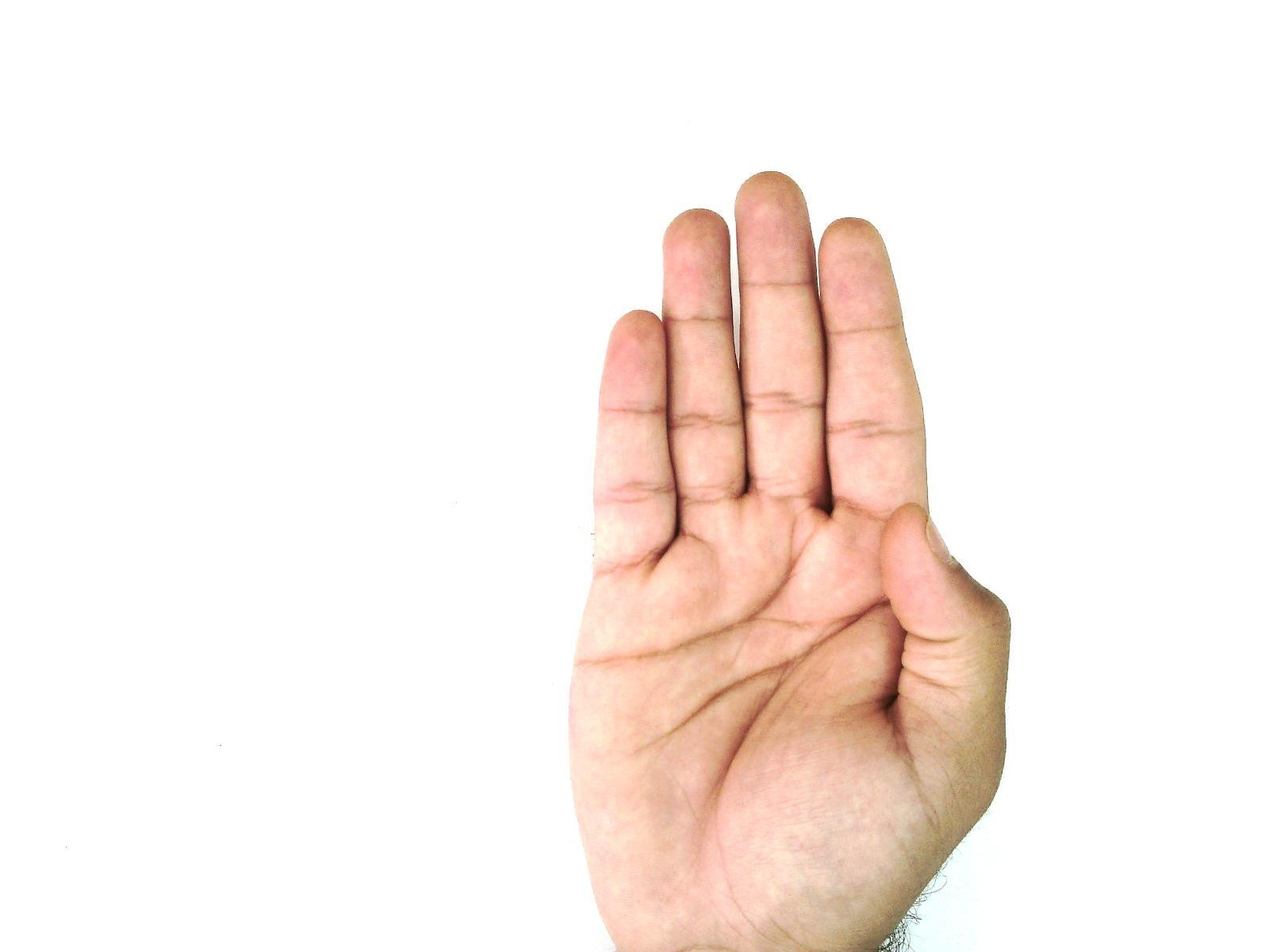open_palm: (565, 170, 1014, 951)
